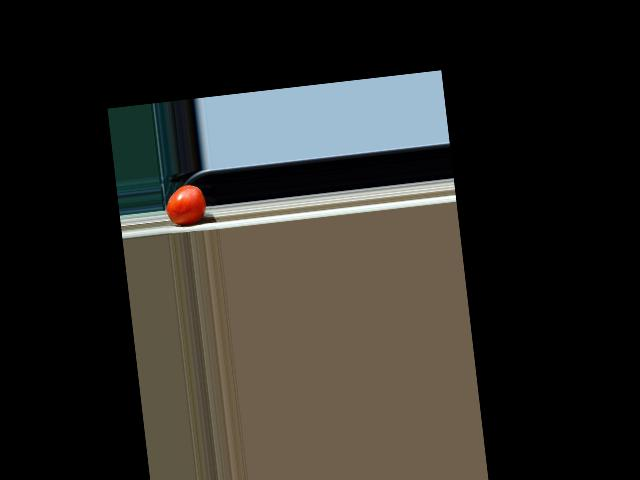tomato: (164, 183, 208, 226)
